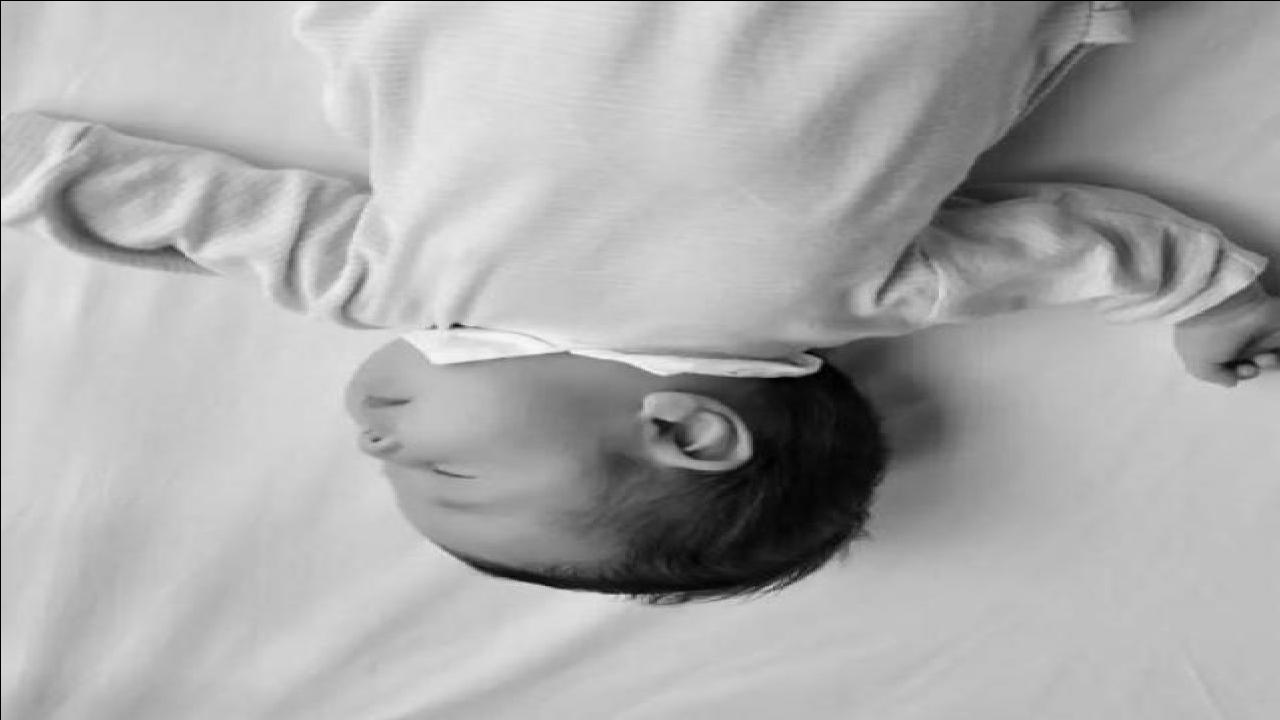hand: (1172, 296, 1278, 384)
